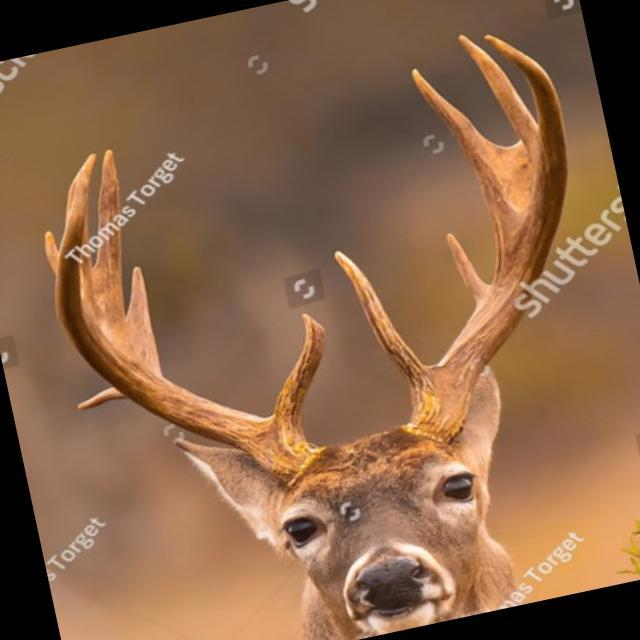E1: (76, 387, 124, 411)
L-F: (403, 33, 570, 445)
L-G1: (331, 249, 438, 407)
L-G2: (446, 231, 492, 306)
R-F: (55, 167, 326, 487)
R-G1: (268, 311, 327, 440)
